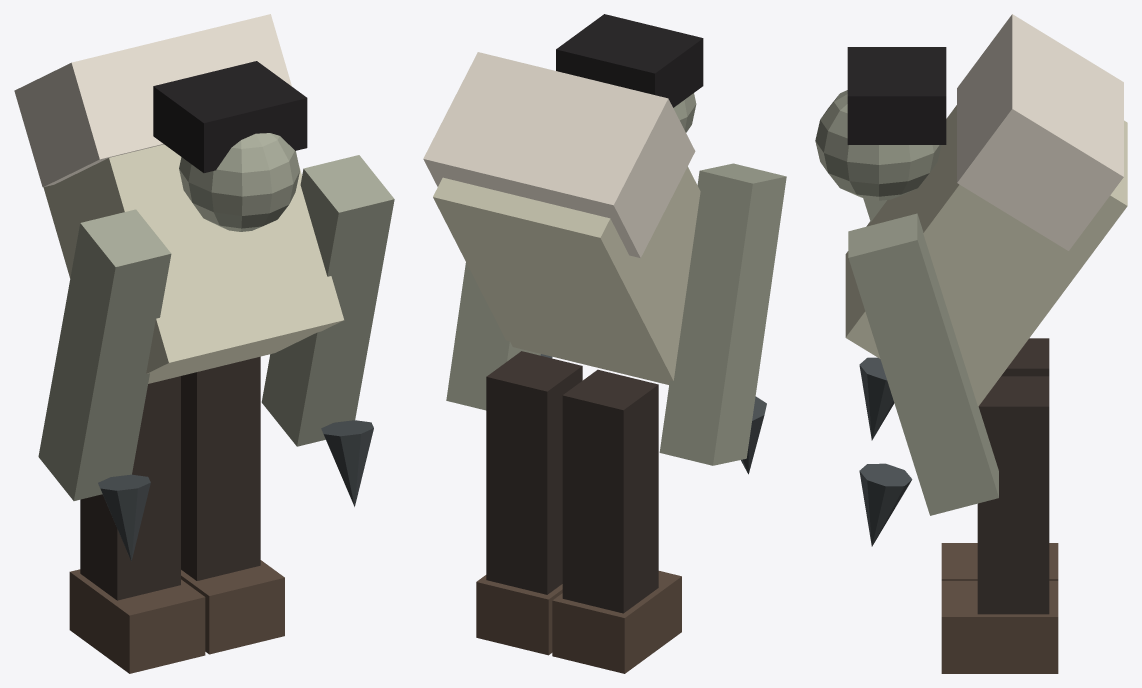
File: vampire.glb
3 views of the same model, side by side, from view 1: azimuth 30°, elevation 25°; view 2: azimuth 150°, elevation 25°; view 3: azimuth 270°, elevation 25° (orthographic). The views are drawn at different scales.
Visible parts, largest first — view 1: Vampire; view 2: Vampire; view 3: Vampire.
Part boxes in pixels (x1,y1,x2,y2): Vampire: (14, 14, 394, 673); Vampire: (423, 14, 786, 673); Vampire: (815, 14, 1127, 673).
Size of the model in its own units: 0.7 by 1.42 by 0.696.
